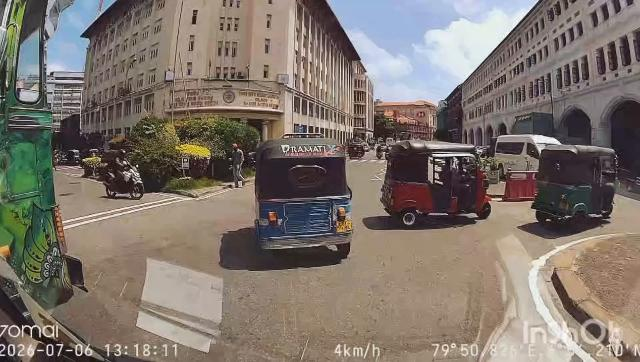number plate: (331, 217, 355, 236)
